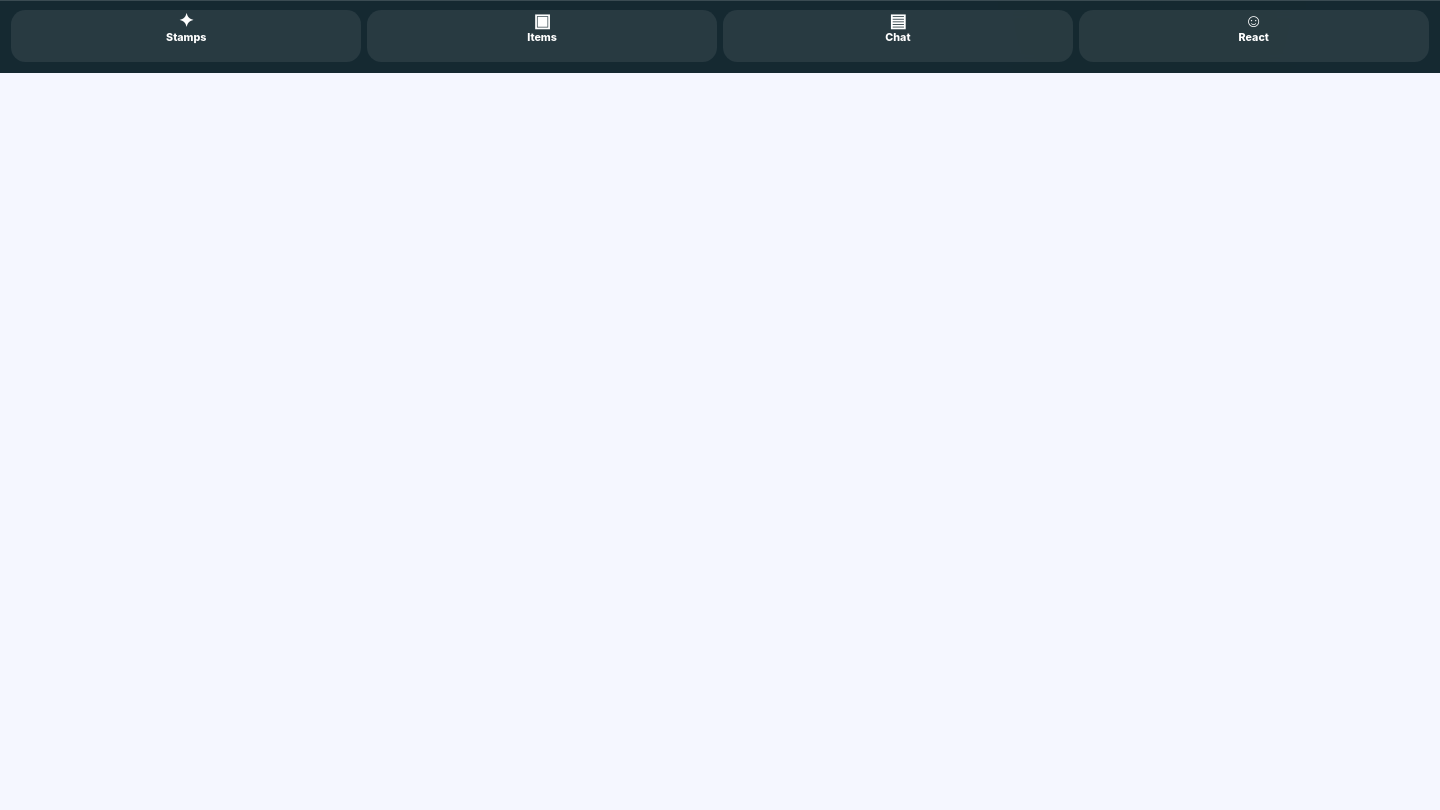
Test: Lounge action dock › keeps exhausted placement controls visible but disabled
The image size is (1440, 810).
Click the button with aria-label "Stamps, 0 placements left" at (186, 36), box [11,10,361,62]
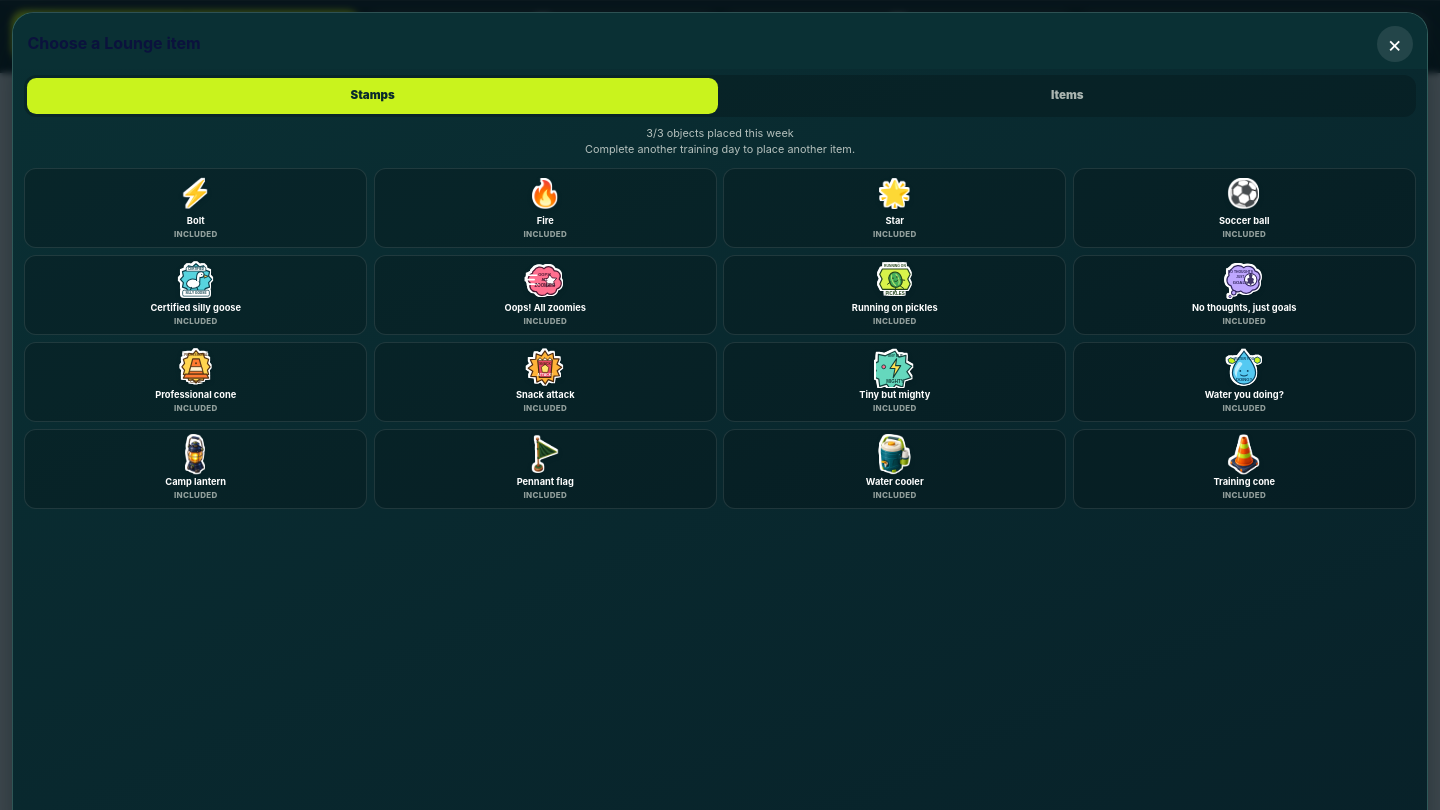
Check: the text "Complete another training day to place another item." is shown, box [585,142,855,156]
Check: the button with aria-label "Choose Bolt stamp" is disabled, box [24,168,367,248]
